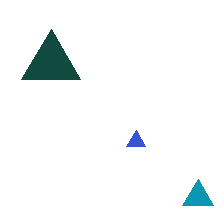triangle: (21, 29, 80, 79), (182, 179, 213, 205), (126, 130, 145, 146)
